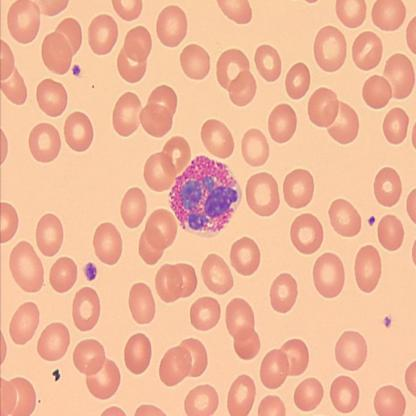Eosinophil: (170, 153, 240, 235)
